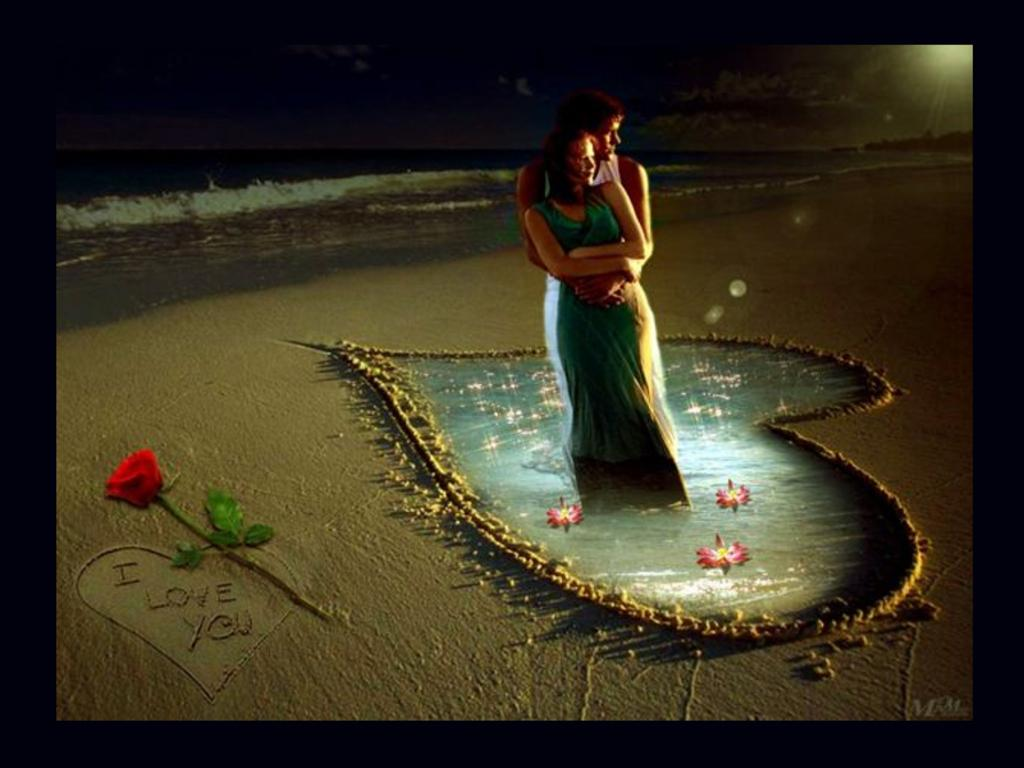face: (593, 112, 621, 160), (573, 139, 596, 185)
